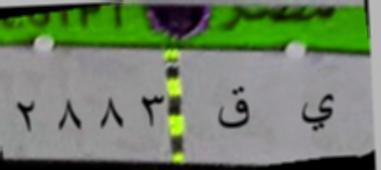2: (12, 92, 44, 142)
3: (135, 92, 166, 131)
8: (52, 95, 86, 136), (98, 92, 128, 138)
qaaf: (216, 82, 258, 134)
yaa: (294, 84, 340, 140)
